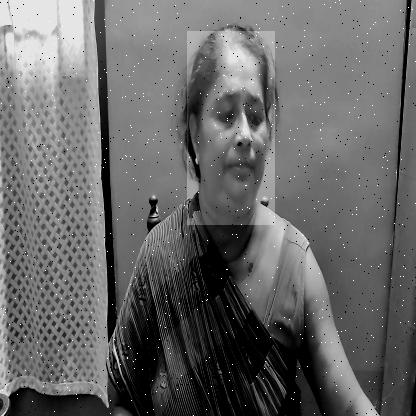Distracted: (187, 31, 275, 225)
